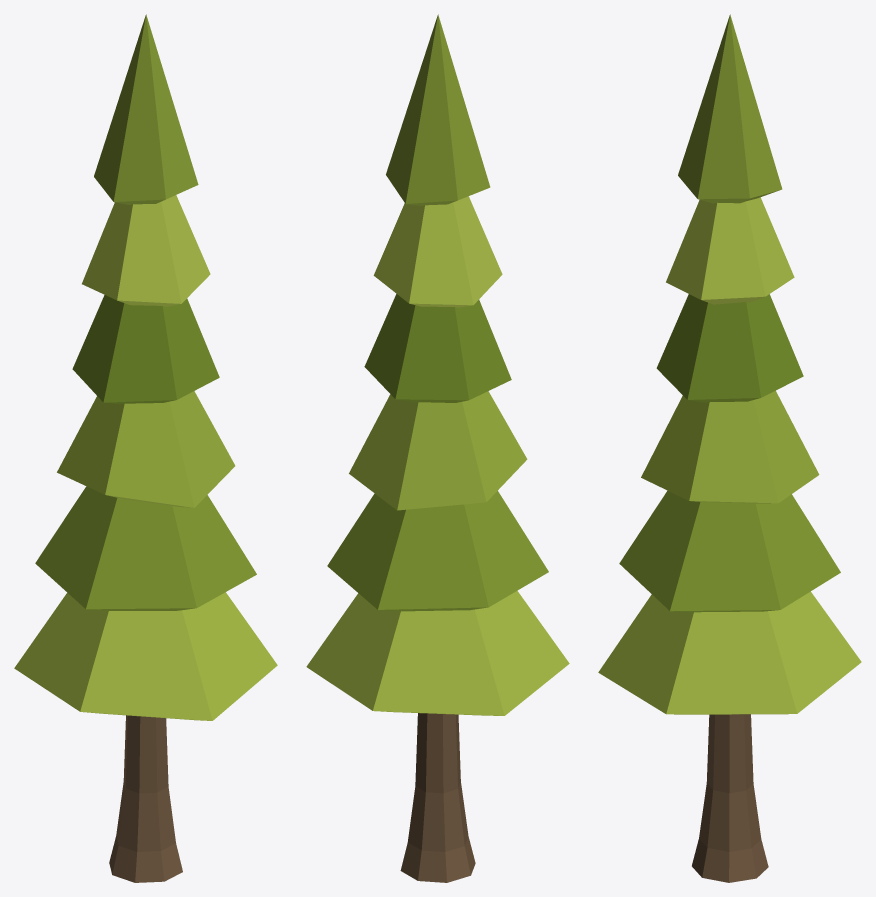
The model's file is LPW_Tree_B1_9m_02.fbx.
The picture shows the model from 3 angles, left to right: view 1: azimuth 30°, elevation 25°; view 2: azimuth 150°, elevation 25°; view 3: azimuth 270°, elevation 25°; orthographic projection.
Parts seen in each view (by area): view 1: LPW_Tree_B1_9m_02; view 2: LPW_Tree_B1_9m_02; view 3: LPW_Tree_B1_9m_02.
Part boxes in pixels (<box>): LPW_Tree_B1_9m_02: <box>14,14,277,882</box>; LPW_Tree_B1_9m_02: <box>306,14,569,882</box>; LPW_Tree_B1_9m_02: <box>598,14,861,882</box>.
Size of the model in its own units: 2.23 by 9.16 by 2.57.
